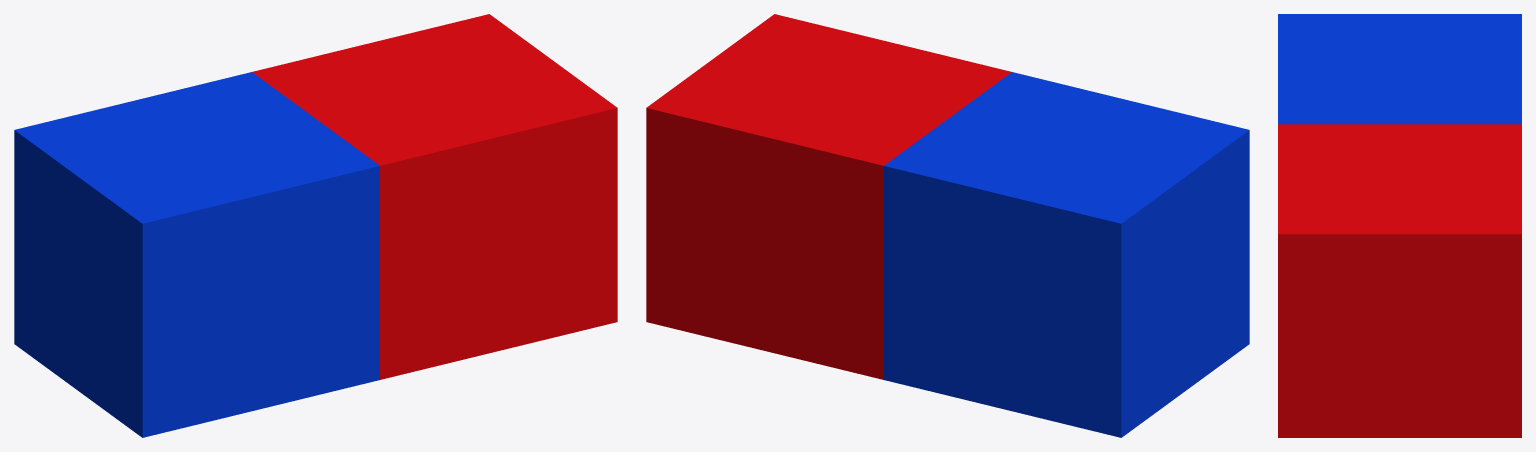
File: magnet.fbx
3 renders of one model, left to right at view 1: azimuth 30°, elevation 25°; view 2: azimuth 150°, elevation 25°; view 3: azimuth 270°, elevation 25°, orthographic. The views are drawn at different scales.
Parts seen in each view (by area): view 1: Cube; view 2: Cube; view 3: Cube.
Part boxes in pixels (x1=…): Cube: x1=14, y1=14, x2=617, y2=437; Cube: x1=646, y1=14, x2=1249, y2=437; Cube: x1=1278, y1=14, x2=1521, y2=437.
Bounding box in the file's own units: 138 × 59.24 × 64.32.
